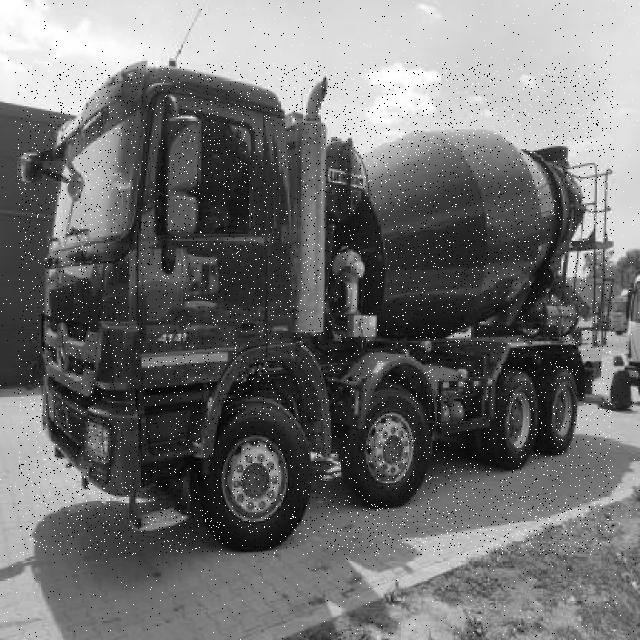Concrete Mixer: (18, 62, 614, 555)
